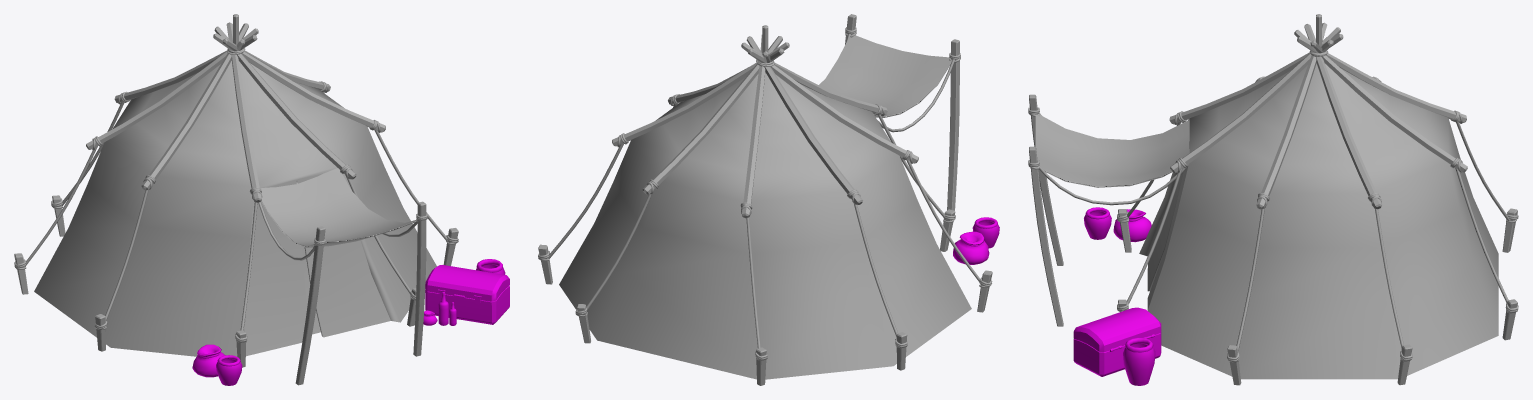
Rendered from Model_Props_Tent.fbx.
3 views of the same model, side by side, from view 1: azimuth 30°, elevation 25°; view 2: azimuth 150°, elevation 25°; view 3: azimuth 270°, elevation 25° (orthographic). The views are drawn at different scales.
Visible parts, largest first — view 1: Model_Props_Tent; view 2: Model_Props_Tent; view 3: Model_Props_Tent.
Boxes of the visible parts, x1,y1,x2,y2 form: Model_Props_Tent: [14, 14, 509, 385]; Model_Props_Tent: [538, 14, 999, 385]; Model_Props_Tent: [1028, 14, 1518, 385].
Size of the model in its own units: 5.53 by 3.86 by 6.12.
